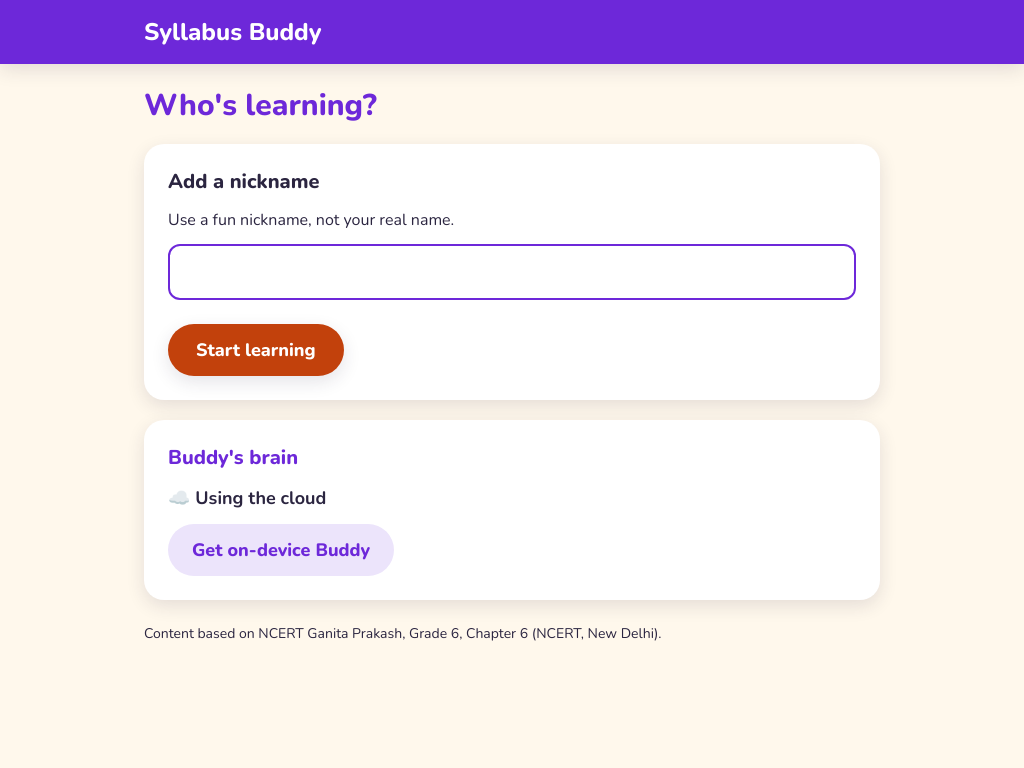
Test: Buddy › offers the on-device download and shows its progress
Expected: the text "☁️ Using the cloud" is shown, x1=168 y1=486 x2=326 y2=510
Click the button "Get on-device Buddy". click: click(281, 550)
box: x1=168 y1=524 x2=394 y2=576
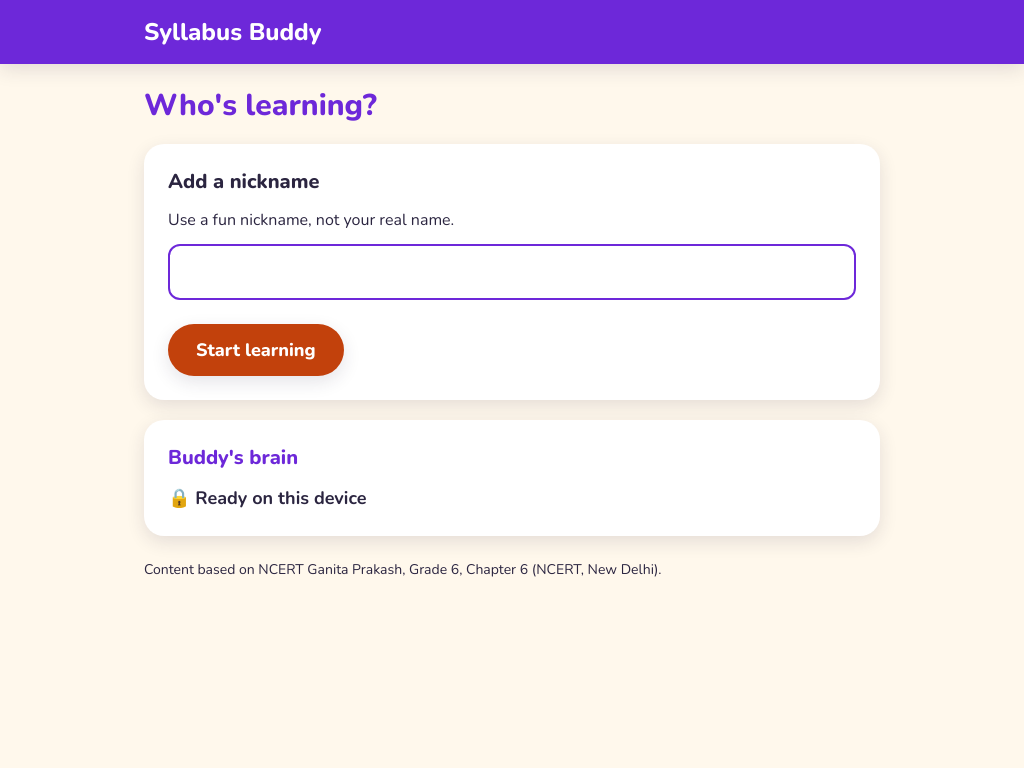
Result: the text "🔒 Ready on this device" is shown at x1=168 y1=486 x2=366 y2=510
